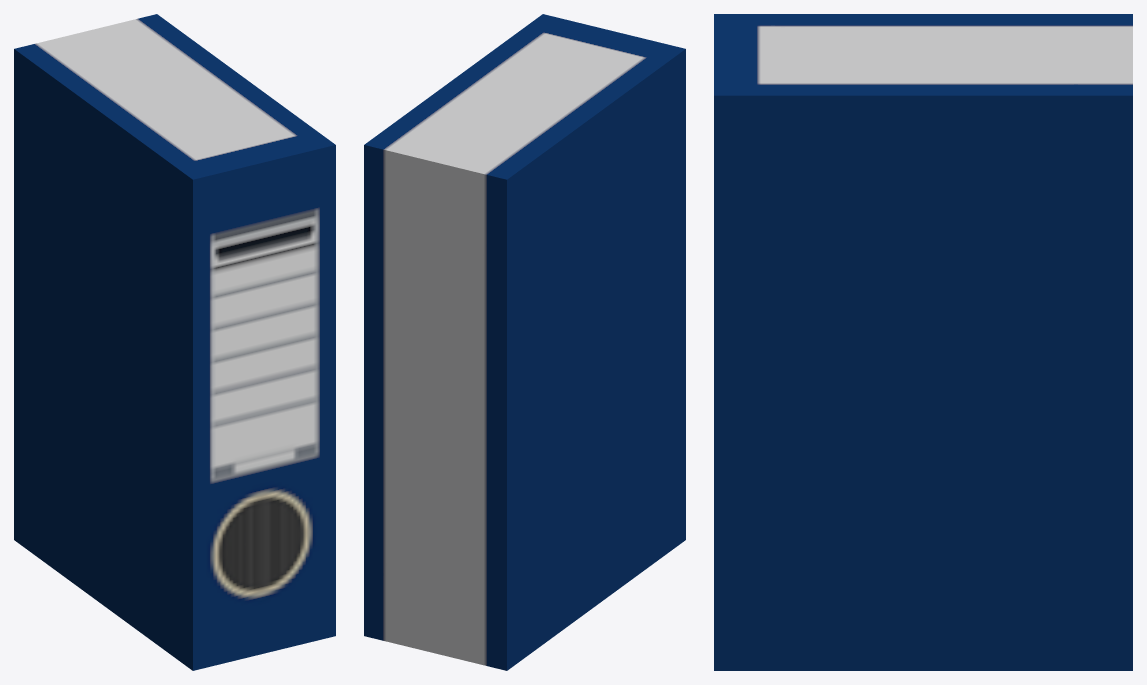
The picture shows the model from 3 angles, left to right: view 1: azimuth 30°, elevation 25°; view 2: azimuth 150°, elevation 25°; view 3: azimuth 270°, elevation 25°; orthographic projection. The views are drawn at different scales.
Visible parts, largest first — view 1: file1; view 2: file1; view 3: file1.
Boxes of the visible parts, box(x1,y1,x2,y2) form: file1: box(14, 14, 335, 670); file1: box(364, 14, 685, 670); file1: box(714, 14, 1132, 670).
Size of the model in its own units: 3.38 by 7.32 by 11.1.
